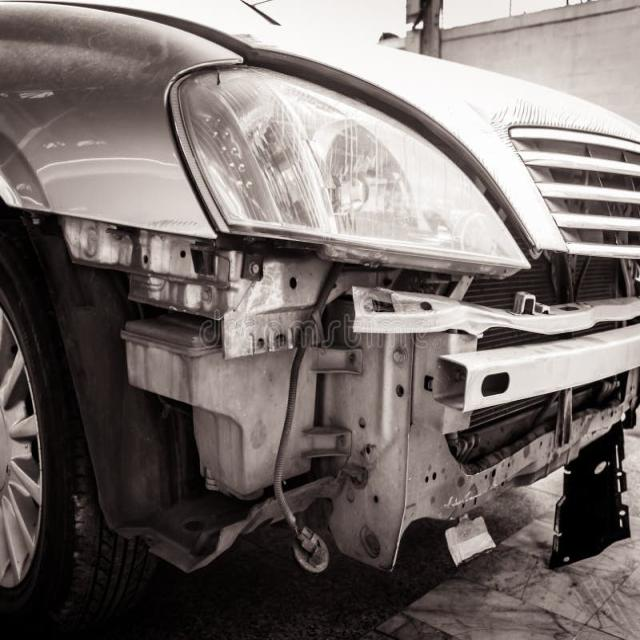missing: (9, 202, 640, 578)
scratch: (145, 219, 201, 234)
